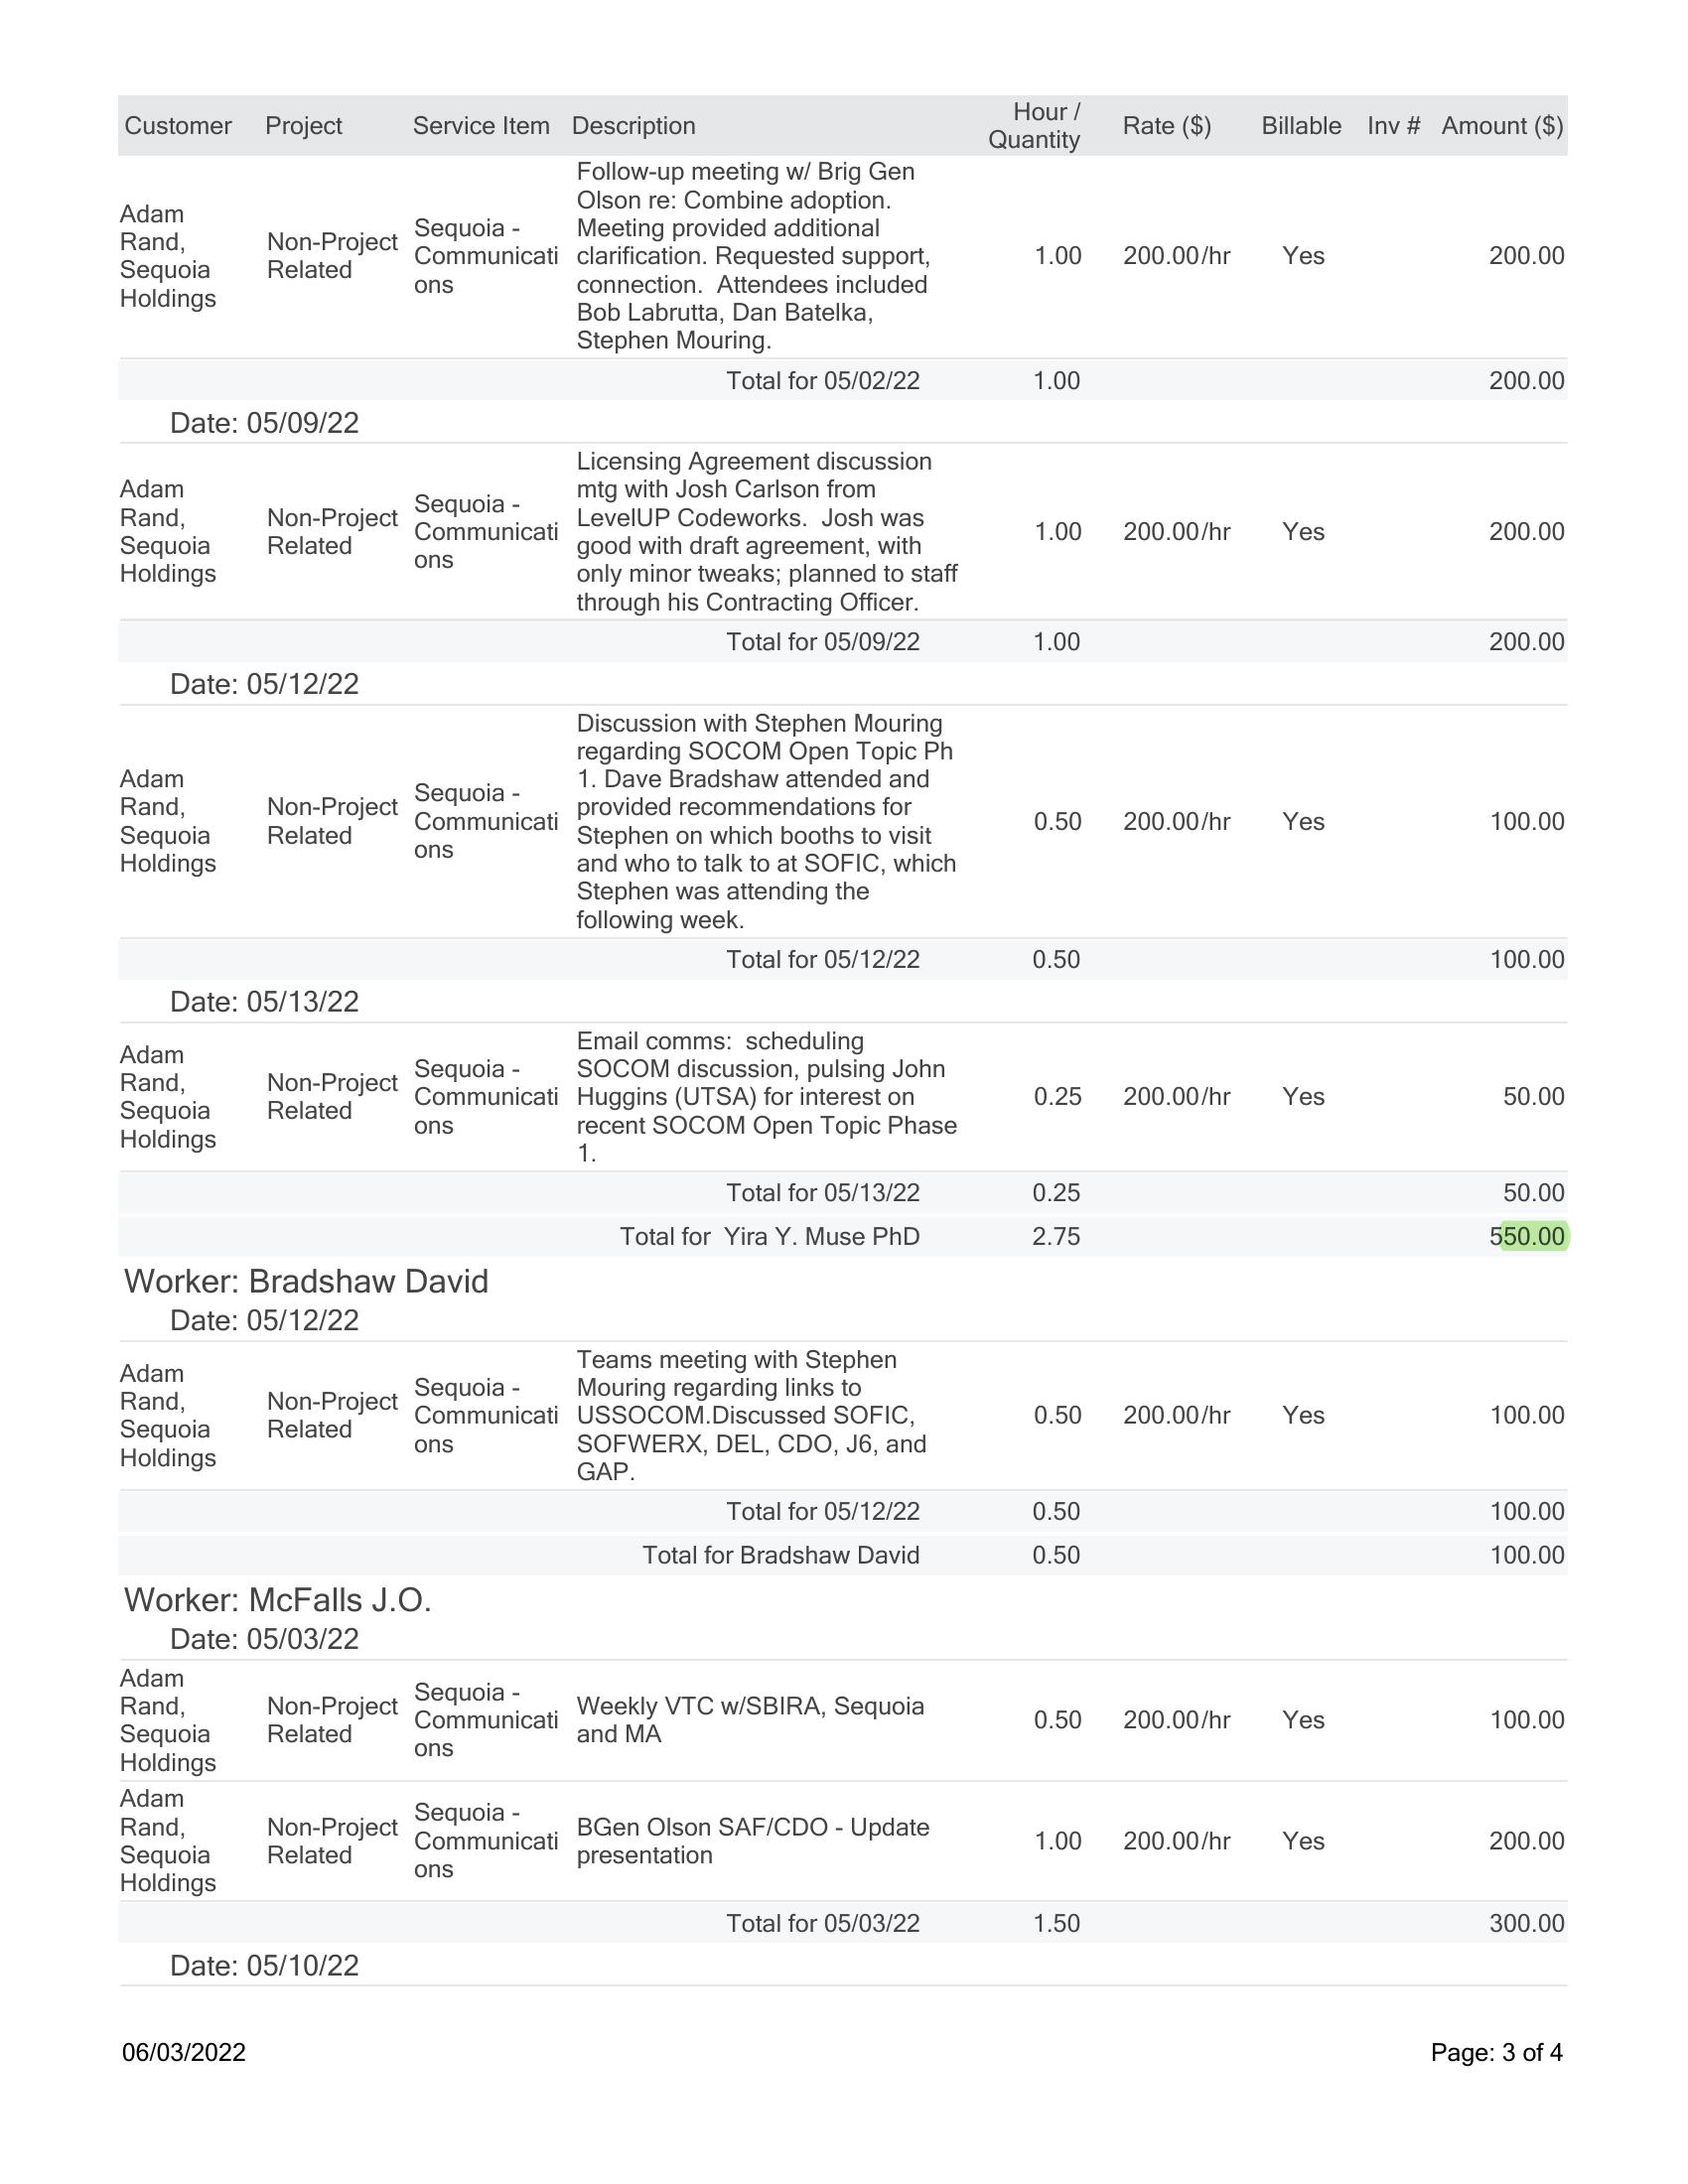table: (103, 94, 1598, 408), (108, 706, 1598, 987), (122, 1665, 1592, 1948), (112, 1342, 1598, 1581), (117, 1023, 1594, 1260), (99, 448, 1594, 651)
